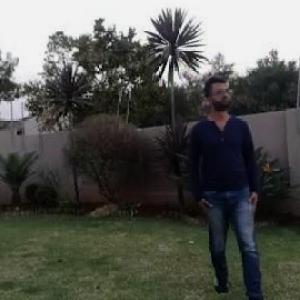follow: (182, 34, 272, 299)
